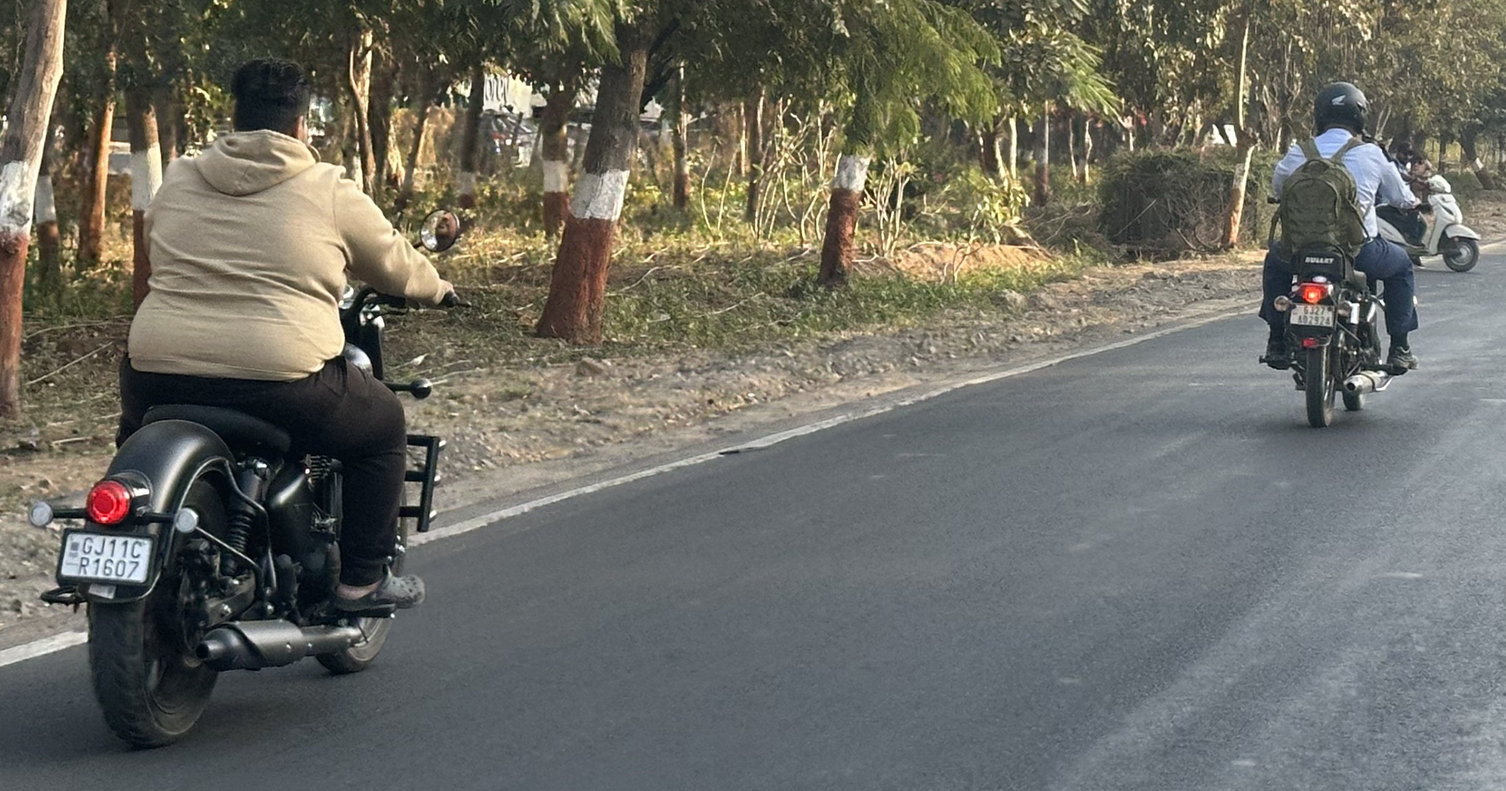BikeWithRider: (21, 47, 479, 761), (1241, 72, 1431, 436)
Helmet: (1303, 74, 1379, 142)
NoHelmet: (209, 49, 329, 159)
